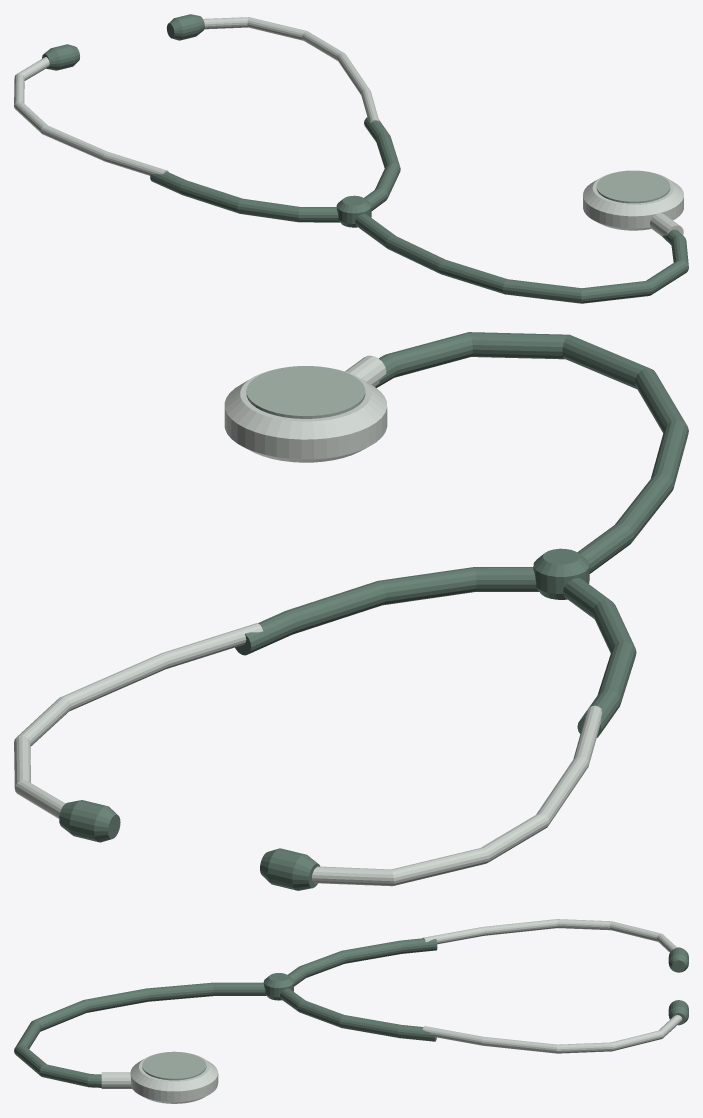
3 views of the same model, one above another, from view 1: azimuth 30°, elevation 25°; view 2: azimuth 150°, elevation 25°; view 3: azimuth 270°, elevation 25° (orthographic). The views are drawn at different scales.
Parts seen in each view (by area): view 1: WholeLongContinuousChestTube, WholeFlexibleYBranch_-1, WholeSteppedCircularChestpiece, WholeBentBinauralTube_-1, WholeBentBinauralTube_1, WholeOpaqueDiaphragmAppearance, WholeFlexibleYBranch_1, WholeFiniteCentralBranchConnector, WholeClosedSoftEarTip_1, WholeClosedSoftEarTip_-1, WholeChestpieceNeck; view 2: WholeLongContinuousChestTube, WholeSteppedCircularChestpiece, WholeFlexibleYBranch_1, WholeBentBinauralTube_-1, WholeBentBinauralTube_1, WholeOpaqueDiaphragmAppearance, WholeFlexibleYBranch_-1, WholeFiniteCentralBranchConnector, WholeClosedSoftEarTip_1, WholeClosedSoftEarTip_-1; view 3: WholeLongContinuousChestTube, WholeBentBinauralTube_1, WholeBentBinauralTube_-1, WholeSteppedCircularChestpiece, WholeFlexibleYBranch_1, WholeFlexibleYBranch_-1, WholeOpaqueDiaphragmAppearance, WholeFiniteCentralBranchConnector, WholeChestpieceNeck, WholeClosedSoftEarTip_-1, WholeClosedSoftEarTip_1.
Part boxes in pixels (box(x1,y1,x2,y2)): WholeLongContinuousChestTube: box(355, 214, 688, 303); WholeFlexibleYBranch_-1: box(150, 171, 340, 222); WholeSteppedCircularChestpiece: box(583, 172, 683, 230); WholeBentBinauralTube_-1: box(14, 57, 168, 175); WholeBentBinauralTube_1: box(203, 17, 379, 122); WholeOpaqueDiaphragmAppearance: box(596, 170, 670, 203); WholeFlexibleYBranch_1: box(364, 116, 400, 210); WholeFiniteCentralBranchConnector: box(336, 195, 371, 227); WholeClosedSoftEarTip_1: box(166, 14, 204, 40); WholeClosedSoftEarTip_-1: box(42, 44, 79, 70); WholeChestpieceNeck: box(650, 213, 683, 236); WholeLongContinuousChestTube: box(375, 332, 688, 573); WholeSteppedCircularChestpiece: box(224, 368, 387, 462); WholeFlexibleYBranch_1: box(235, 567, 538, 655); WholeBentBinauralTube_-1: box(312, 705, 601, 886); WholeBentBinauralTube_1: box(14, 623, 263, 818); WholeOpaqueDiaphragmAppearance: box(246, 366, 365, 418); WholeFlexibleYBranch_-1: box(563, 578, 636, 737); WholeFiniteCentralBranchConnector: box(533, 548, 589, 599); WholeClosedSoftEarTip_1: box(59, 800, 120, 842); WholeClosedSoftEarTip_-1: box(260, 848, 320, 890); WholeLongContinuousChestTube: box(14, 982, 266, 1087); WholeBentBinauralTube_1: box(422, 1015, 682, 1053); WholeBentBinauralTube_-1: box(423, 919, 676, 952); WholeSteppedCircularChestpiece: box(130, 1053, 218, 1103); WholeFlexibleYBranch_1: box(280, 988, 436, 1041); WholeFlexibleYBranch_-1: box(288, 938, 437, 986); WholeOpaqueDiaphragmAppearance: box(142, 1051, 206, 1080); WholeFiniteCentralBranchConnector: box(263, 973, 293, 1000); WholeChestpieceNeck: box(101, 1072, 131, 1088); WholeClosedSoftEarTip_-1: box(668, 947, 688, 972); WholeClosedSoftEarTip_1: box(668, 1000, 688, 1025).
Size of the model in its own units: 0.2467 by 0.015 by 0.4.
